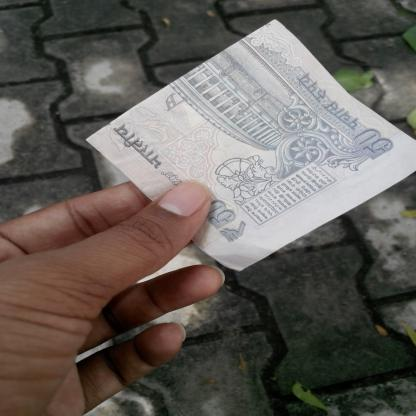Old50Back: (86, 18, 416, 271)
